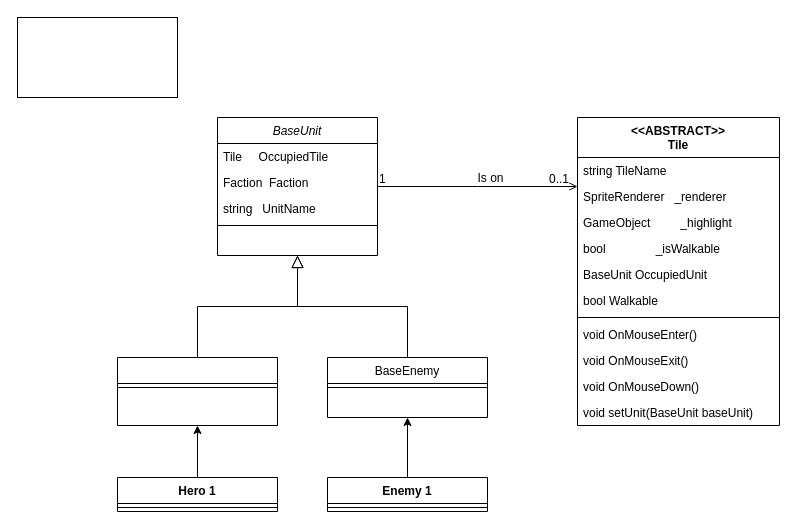
This 797x529 diagram has some shape labels left out. The shapes that lost their labels are listed below. From the top down, each one's centre as x and y in pixels, then its label:
At [97,57]: "Faction:Type Hero = 0 Enemy = 1".
At [197,391]: "BaseHero".
